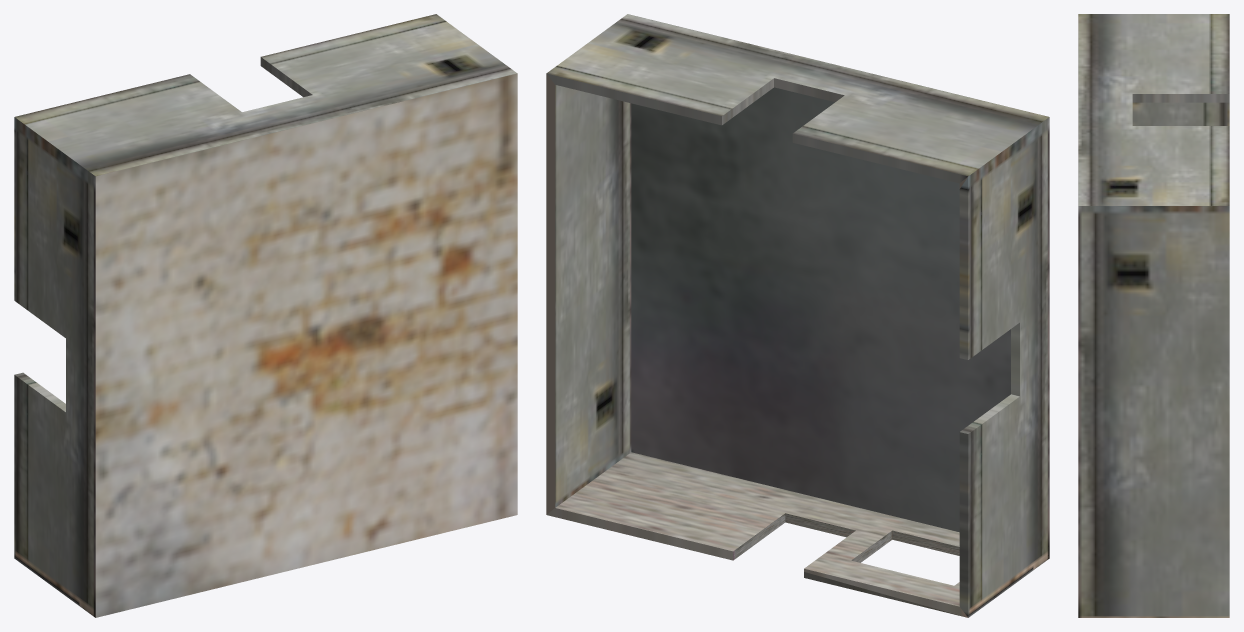
File: 6x6NSE_Swindow_wtf.obj
The picture shows the model from 3 angles, left to right: view 1: azimuth 30°, elevation 25°; view 2: azimuth 150°, elevation 25°; view 3: azimuth 270°, elevation 25°; orthographic projection. The views are drawn at different scales.
Parts seen in each view (by area): view 1: group2; view 2: group2; view 3: group2.
Boxes of the visible parts, bbox=[...] form: group2: bbox=[14, 14, 517, 617]; group2: bbox=[546, 14, 1049, 617]; group2: bbox=[1078, 14, 1229, 617].
Size of the model in its own units: 660 by 660 by 220.
